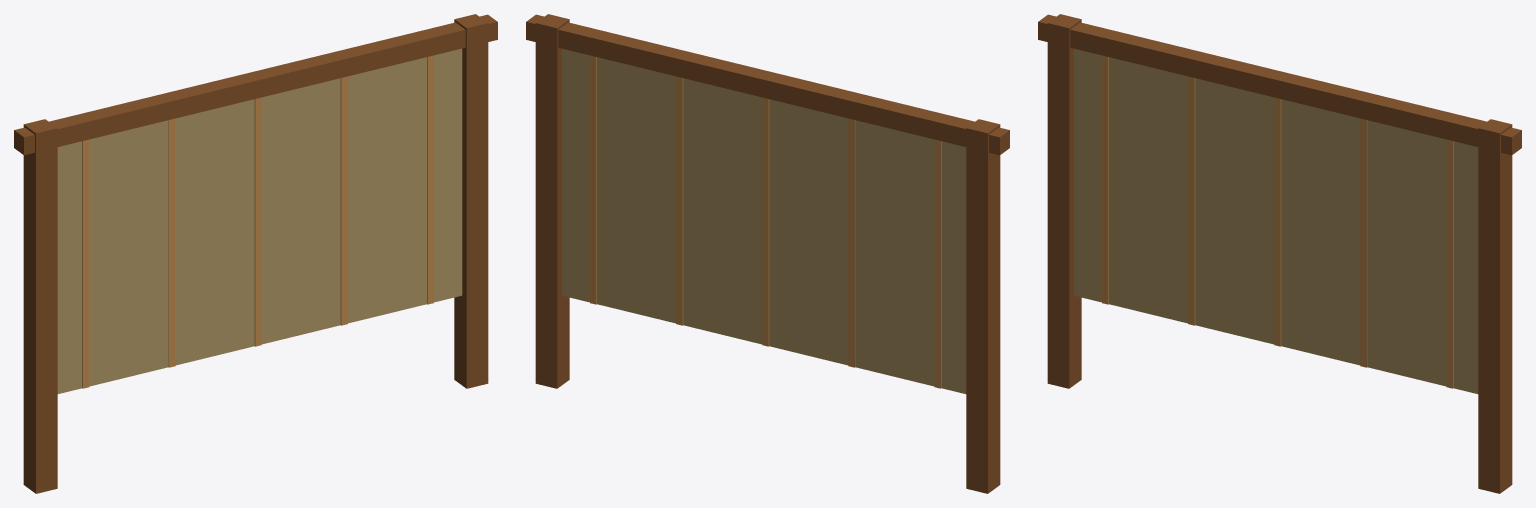
File: town_fishing_net_rack.glb
3 renders of one model, left to right at view 1: azimuth 30°, elevation 25°; view 2: azimuth 150°, elevation 25°; view 3: azimuth 330°, elevation 25°, orthographic.
Visible parts, largest first — view 1: fishing_net_rack; view 2: fishing_net_rack; view 3: fishing_net_rack.
Part boxes in pixels (x1,y1,x2,y2): fishing_net_rack: [14, 14, 497, 493]; fishing_net_rack: [526, 14, 1009, 493]; fishing_net_rack: [1038, 14, 1521, 493].
Bounding box in the file's own units: 2.2 × 1.6 × 0.1.
